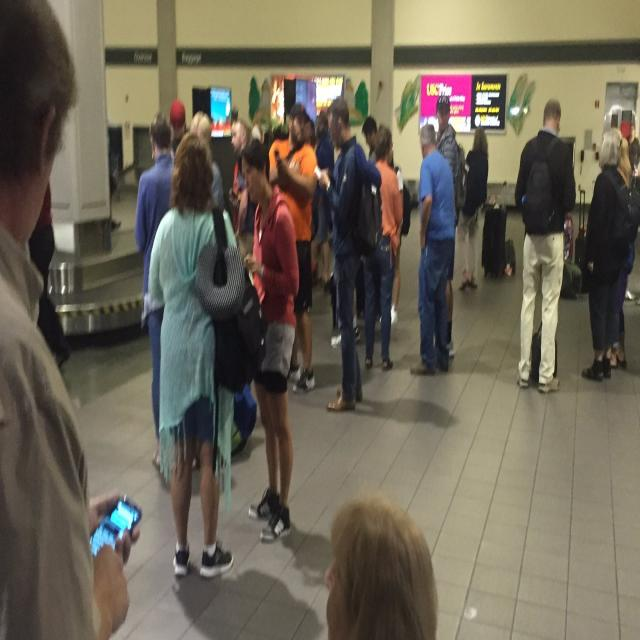body: (0, 0, 152, 639), (146, 129, 262, 583), (238, 138, 300, 544), (314, 94, 384, 417), (514, 95, 578, 396), (318, 492, 441, 640), (134, 111, 176, 477), (272, 100, 320, 398), (408, 121, 458, 379), (582, 124, 629, 390), (16, 165, 70, 382), (362, 122, 404, 372), (435, 94, 463, 360), (378, 123, 412, 325), (607, 136, 636, 372), (457, 123, 492, 294), (228, 117, 260, 275), (349, 388, 463, 430), (309, 110, 335, 294), (190, 109, 226, 214), (328, 255, 362, 357), (161, 93, 189, 159), (249, 104, 273, 156), (360, 114, 380, 170), (622, 117, 640, 175), (301, 112, 319, 152)
